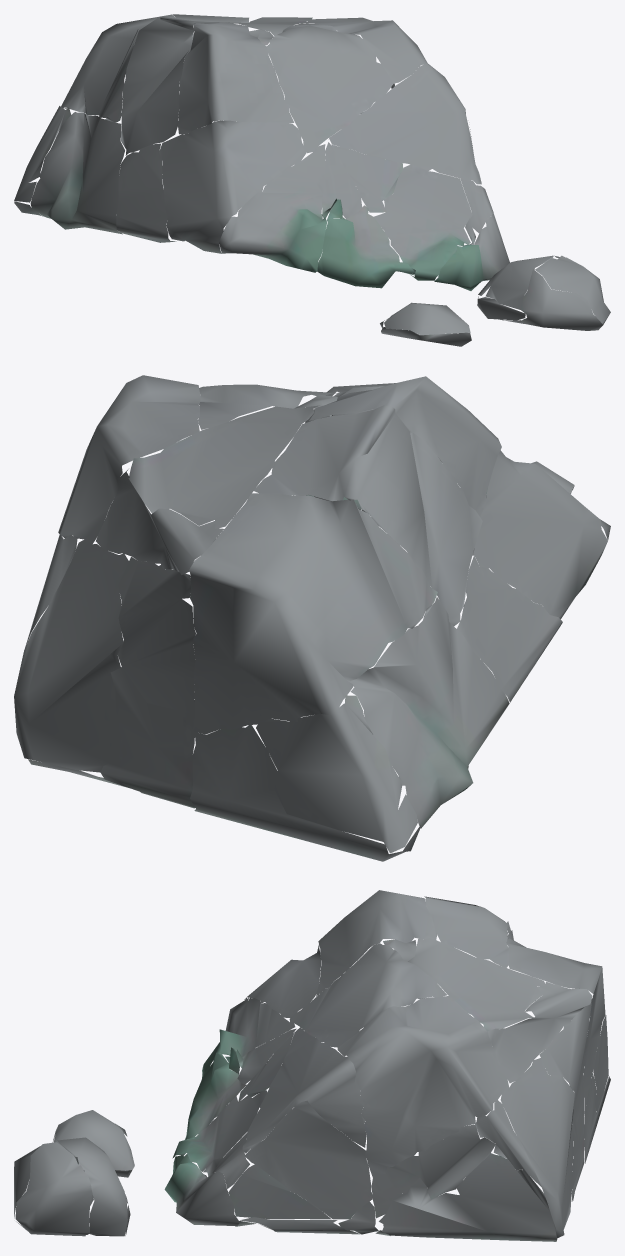
File: green17.glb
The picture shows the model from 3 angles, top to bottom: view 1: azimuth 30°, elevation 25°; view 2: azimuth 150°, elevation 25°; view 3: azimuth 270°, elevation 25°; orthographic projection. The views are drawn at different scales.
Parts seen in each view (by area): view 1: tripo_node_ce88b832-bb0b-424a-8b62-2b39787a2288; view 2: tripo_node_ce88b832-bb0b-424a-8b62-2b39787a2288; view 3: tripo_node_ce88b832-bb0b-424a-8b62-2b39787a2288.
Part boxes in pixels (box(x1,y1,x2,y2)): tripo_node_ce88b832-bb0b-424a-8b62-2b39787a2288: box(14, 14, 610, 346); tripo_node_ce88b832-bb0b-424a-8b62-2b39787a2288: box(14, 375, 610, 861); tripo_node_ce88b832-bb0b-424a-8b62-2b39787a2288: box(14, 890, 610, 1241).
Bounding box in the file's own units: 0.6531 × 0.4783 × 0.9999.
Materials: 1 (1 with a texture image).
